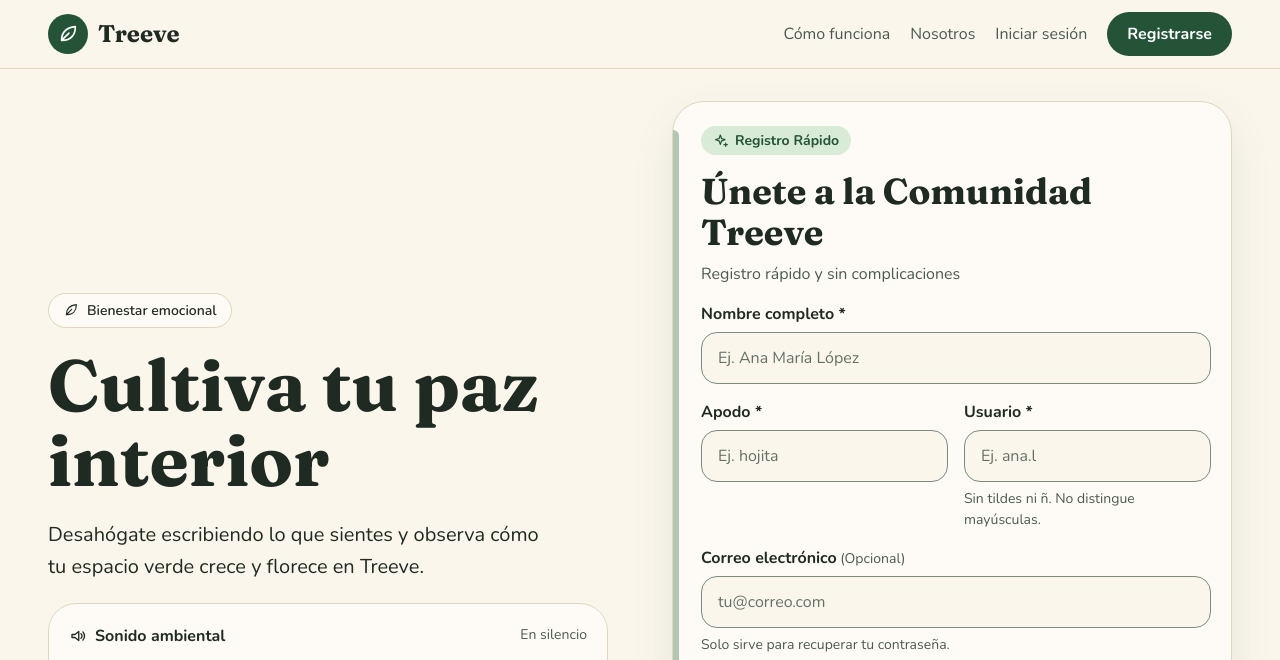
Test case: HU-03b: recuperar la contraseña, de punta a punta › pantalla 1: desde el inicio de sesión › se pide el enlace, se muestra el mensaje de la API y se puede volver a iniciar sesión
Click the link "Iniciar sesión": point(1041, 34) [995,23,1087,45]
(page scrolled)
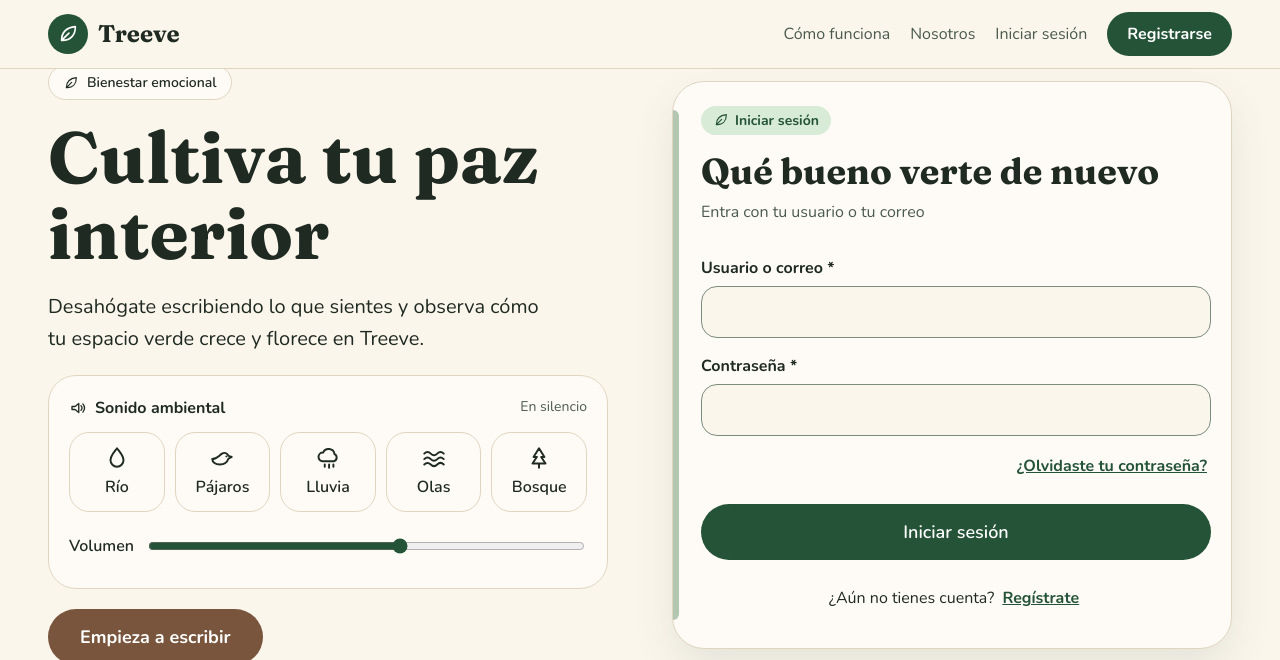
Click the button "¿Olvidaste tu contraseña?": point(1112, 466) [1013,444,1211,488]
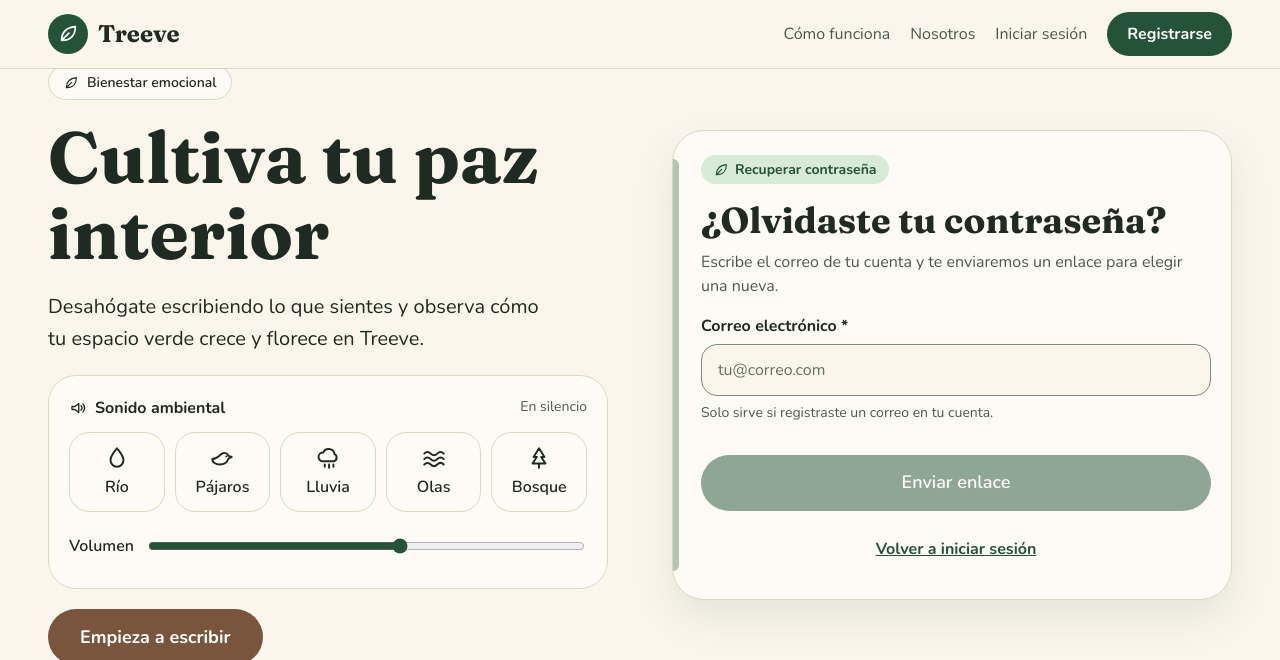
In the field labelled "Correo electrónico *": point(956, 370) [701,344,1211,396], type "ana@correo.com"
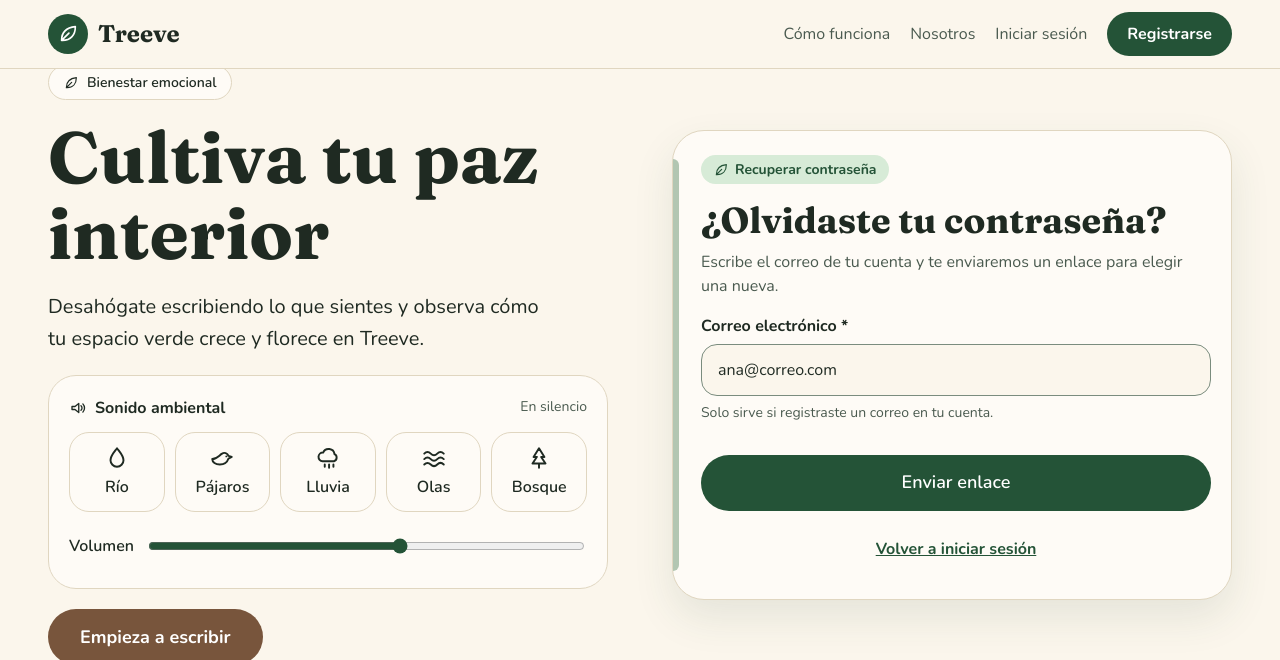
Click the button "Enviar enlace": point(956, 483) [701,455,1211,511]
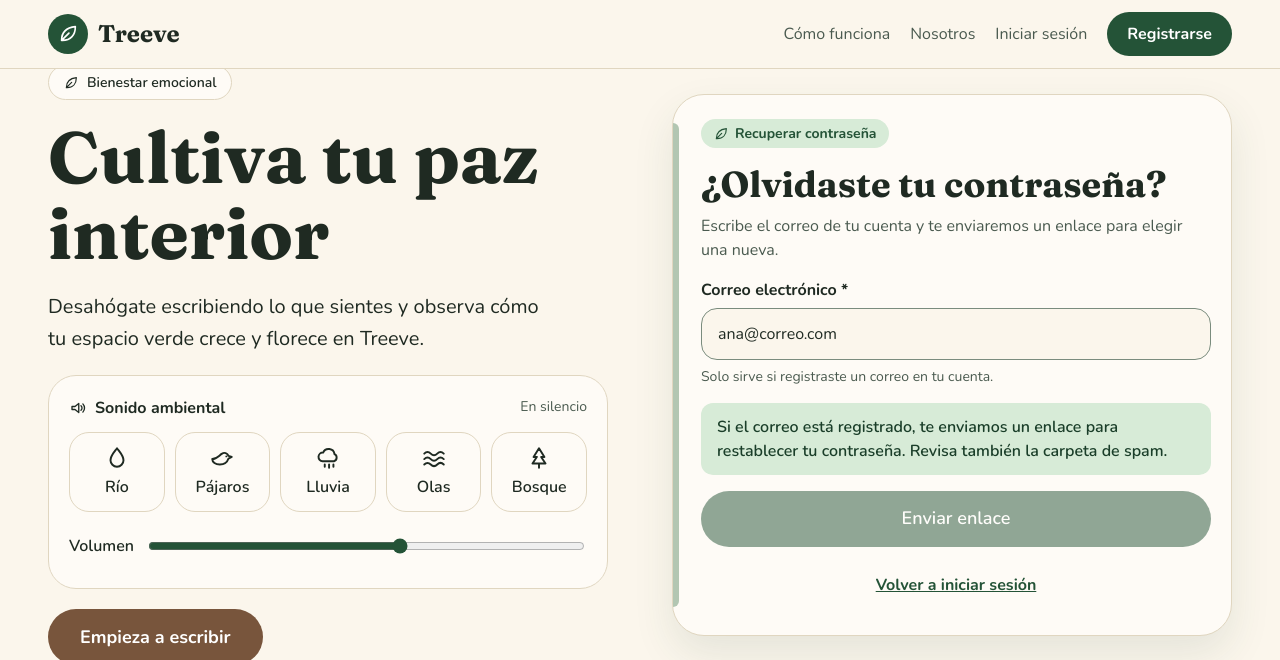
Expected: the text "Si el correo está registrado, te enviamos un enlace para restablecer tu contraseña. Revisa también la carpeta de spam." is shown, [717,416,1167,462]
Click the button "Volver a iniciar sesión": point(956, 585) [872,563,1040,607]
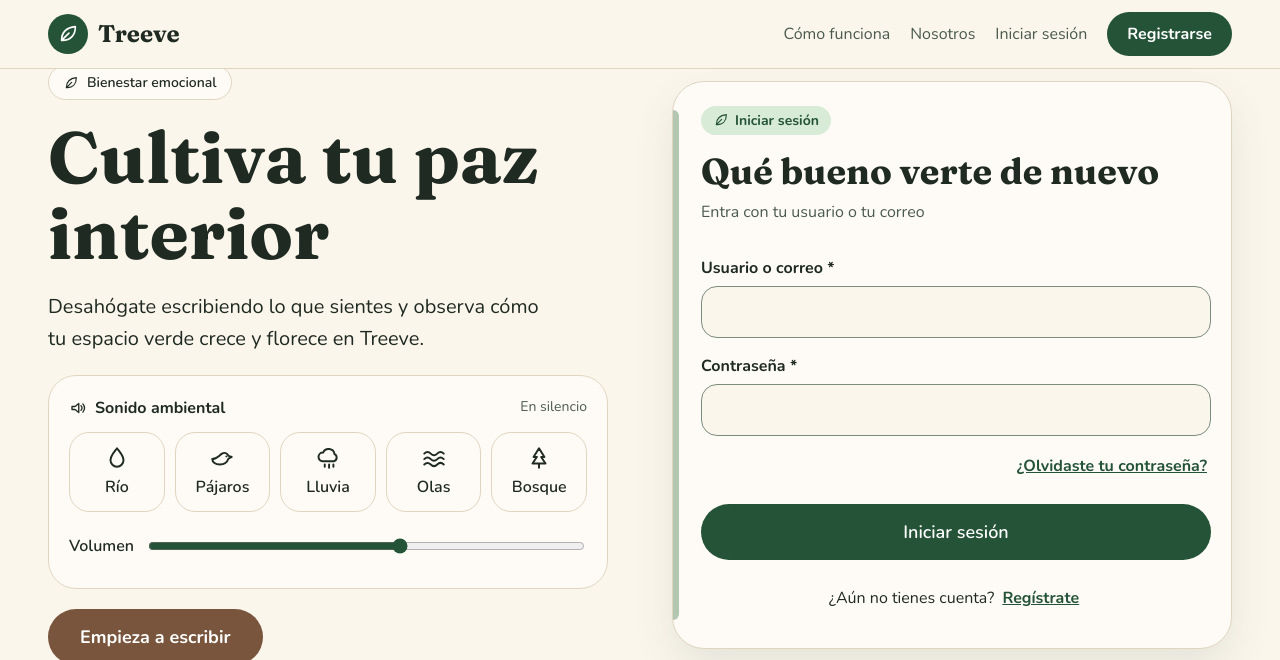
Expected: the button "Iniciar sesión" is shown, [701,504,1211,560]
